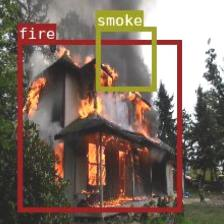fire: (17, 39, 180, 211)
smoke: (96, 26, 155, 90)
